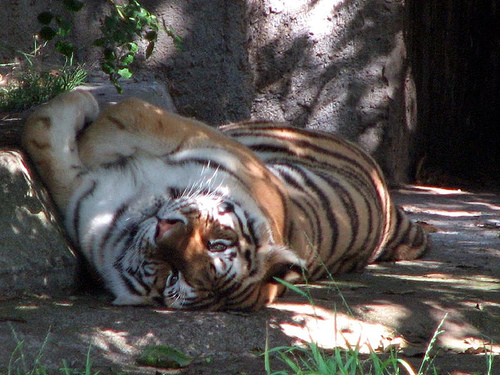Tigre: (57, 101, 459, 311)
